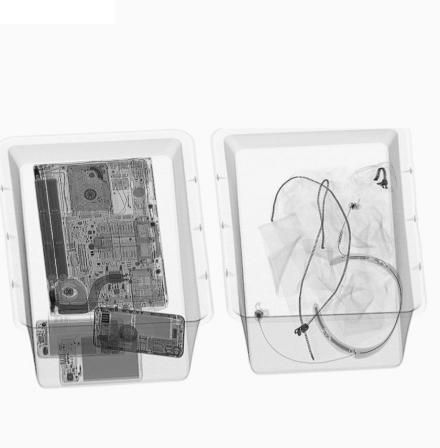Powerbank: (59, 334, 143, 386)
